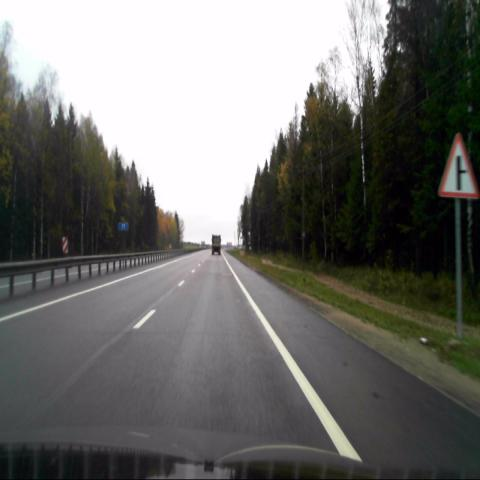2_3_2: (438, 132, 477, 200)
